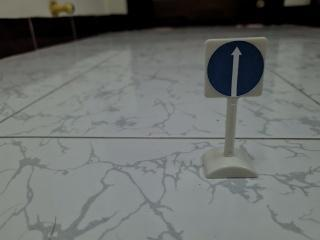straight: (206, 37, 265, 98)
